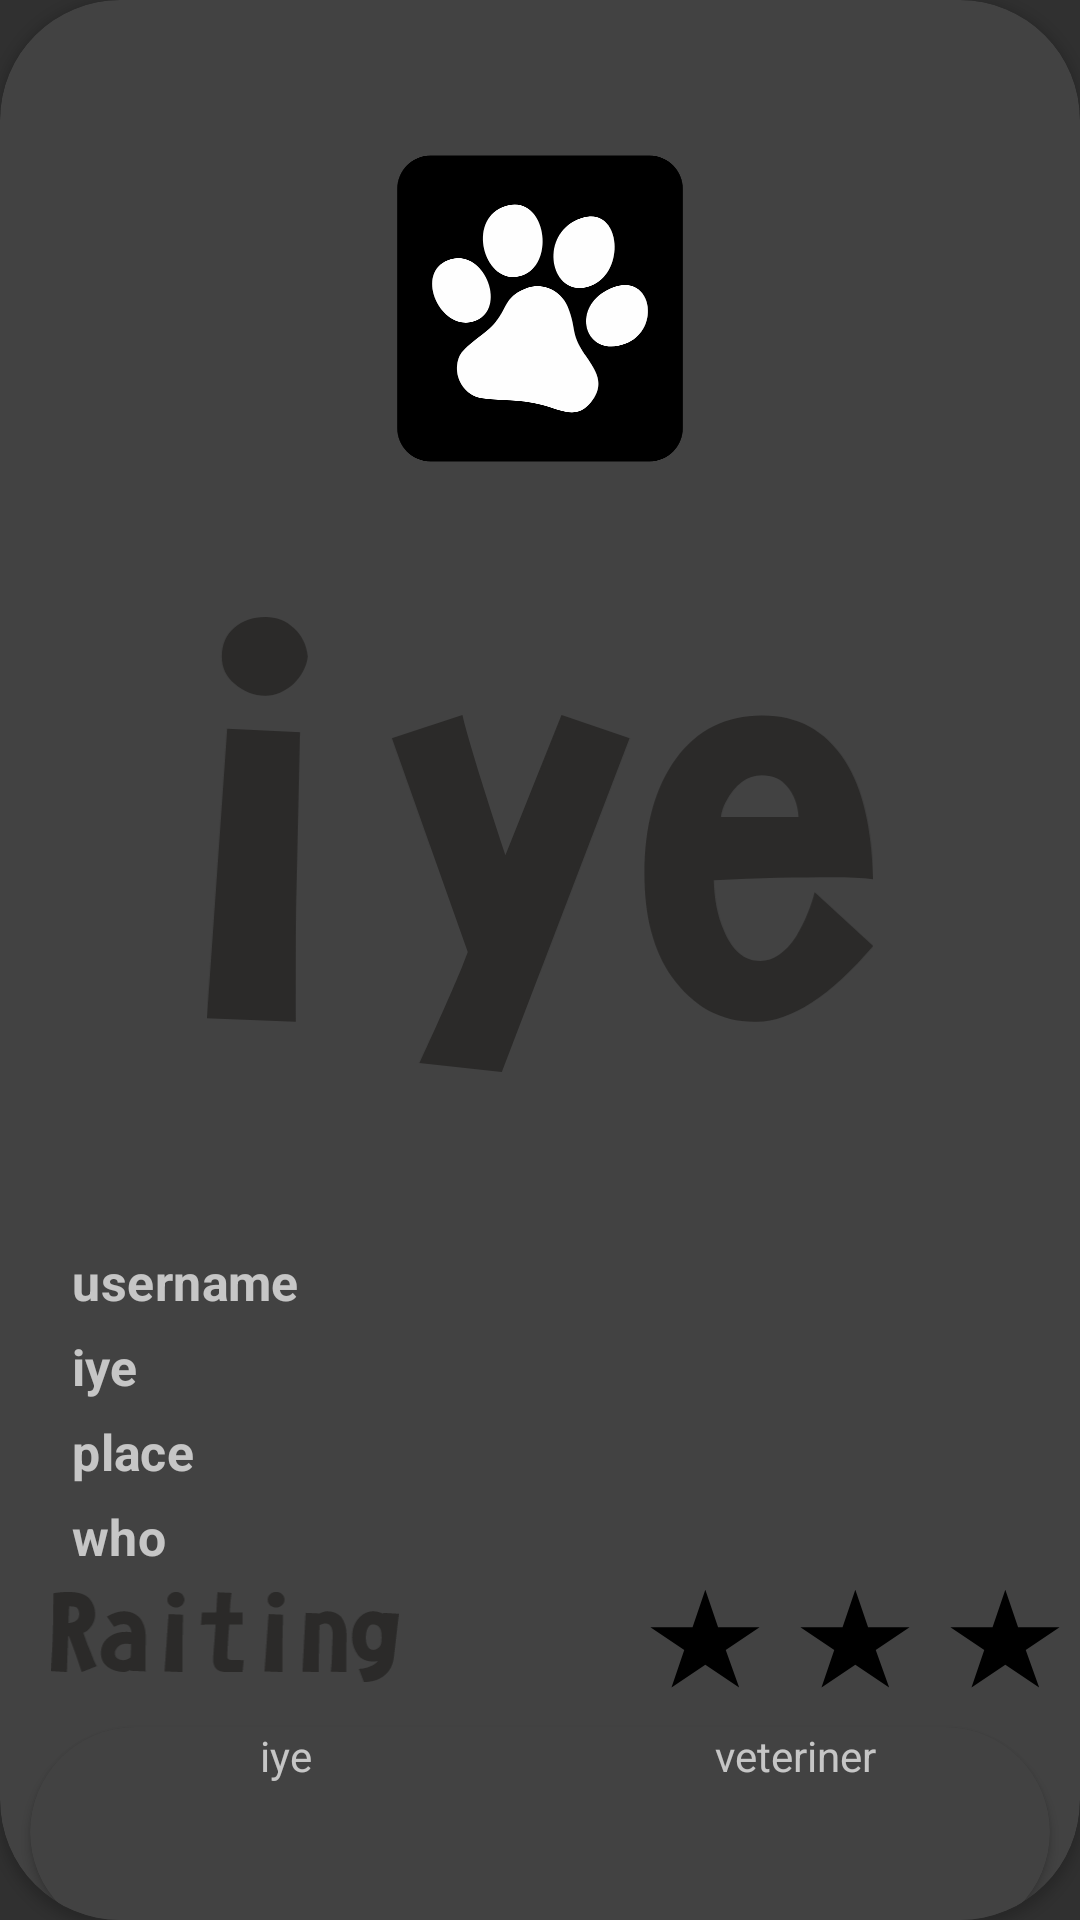

Screen size 1080x1920. Icon name, then its center in pixels as [x,y]:
star: [705,1638], [855,1638], [1005,1638]
